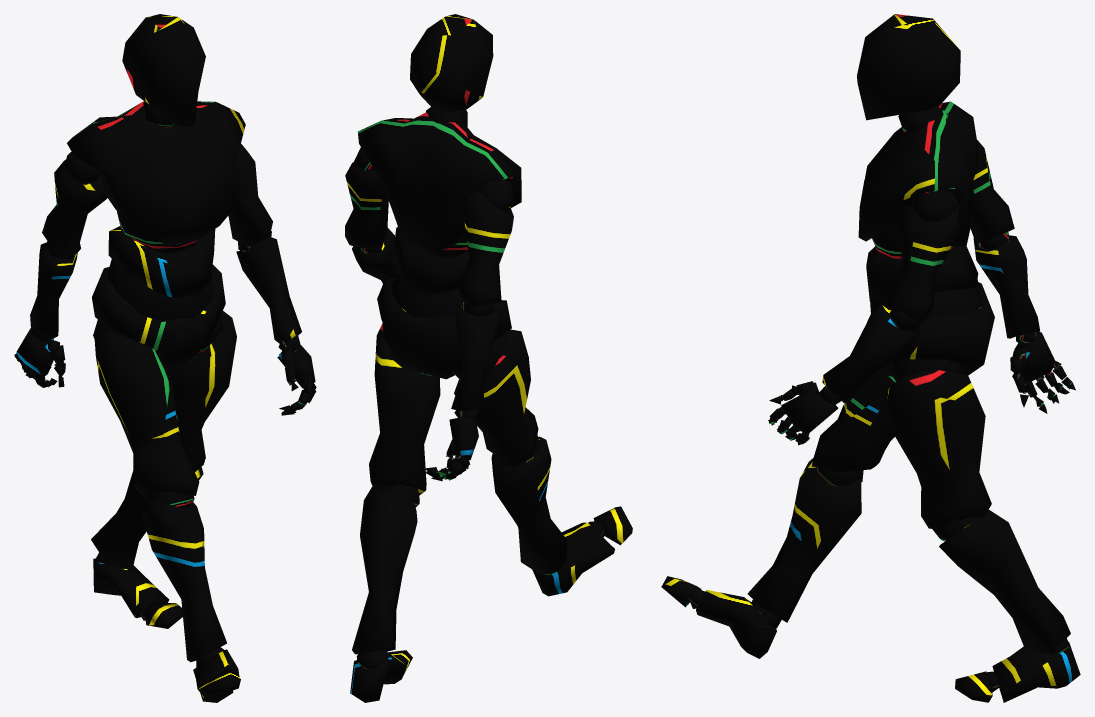
File: y-bot-origin_000004.obj
3 views of the same model, side by side, from view 1: azimuth 30°, elevation 25°; view 2: azimuth 150°, elevation 25°; view 3: azimuth 270°, elevation 25° (orthographic). The views are drawn at different scales.
Parts seen in each view (by area): view 1: Alpha_Surface_Alpha_SurfaceMesh, Alpha_Joints_Alpha_JointsMesh; view 2: Alpha_Surface_Alpha_SurfaceMesh, Alpha_Joints_Alpha_JointsMesh; view 3: Alpha_Surface_Alpha_SurfaceMesh, Alpha_Joints_Alpha_JointsMesh.
Boxes of the visible parts, x1,y1,x2,y2 form: Alpha_Surface_Alpha_SurfaceMesh: (14,14,316,702); Alpha_Joints_Alpha_JointsMesh: (14,101,316,674); Alpha_Surface_Alpha_SurfaceMesh: (345,14,632,702); Alpha_Joints_Alpha_JointsMesh: (353,107,604,670); Alpha_Surface_Alpha_SurfaceMesh: (661,14,1080,702); Alpha_Joints_Alpha_JointsMesh: (688,106,1069,692).
Bounding box in the file's own units: 0.5405 × 1.75 × 0.9993.
